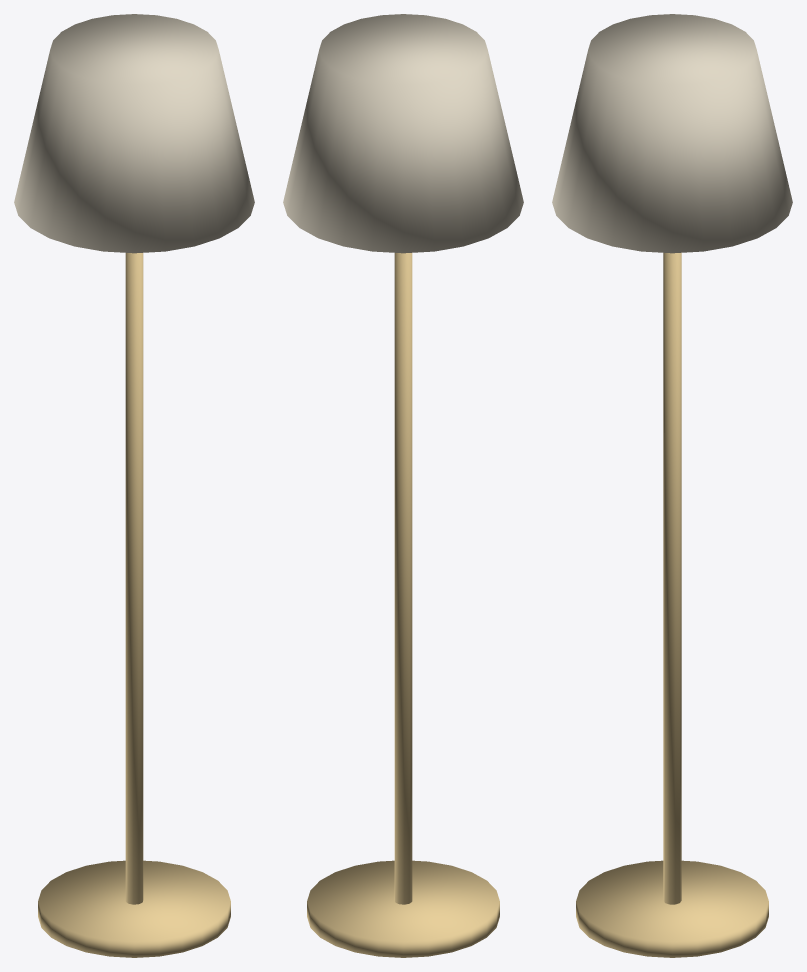
Rendered from lamp.glb.
The picture shows the model from 3 angles, left to right: view 1: azimuth 30°, elevation 25°; view 2: azimuth 150°, elevation 25°; view 3: azimuth 270°, elevation 25°; orthographic projection.
Parts seen in each view (by area): view 1: lamp; view 2: lamp; view 3: lamp.
Boxes of the visible parts, x1=… form: lamp: x1=14, y1=14, x2=254, y2=957; lamp: x1=283, y1=14, x2=523, y2=957; lamp: x1=552, y1=14, x2=792, y2=957.
Bounding box in the file's own units: 0.4 × 1.59 × 0.4.
